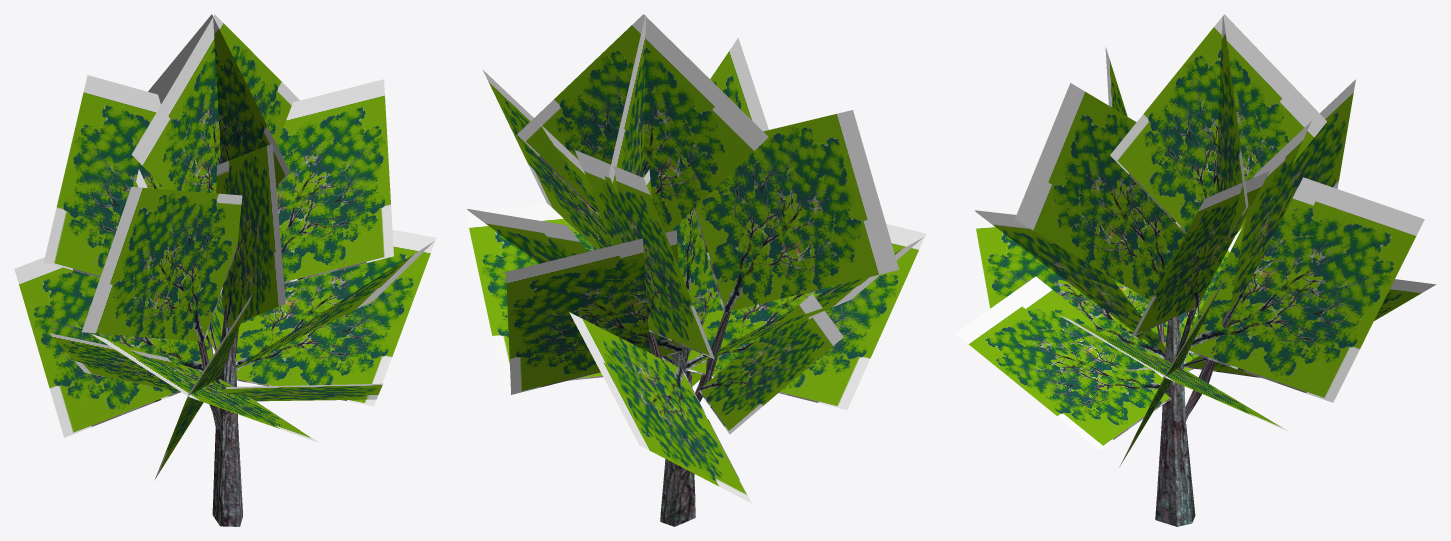
File: White_Oak_1.dae
3 views of the same model, side by side, from view 1: azimuth 30°, elevation 25°; view 2: azimuth 150°, elevation 25°; view 3: azimuth 270°, elevation 25° (orthographic). The views are drawn at different scales.
Parts seen in each view (by area): view 1: White_Oak_1; view 2: White_Oak_1; view 3: White_Oak_1.
Part boxes in pixels (bbox=[...]): White_Oak_1: bbox=[14, 14, 436, 526]; White_Oak_1: bbox=[465, 14, 925, 526]; White_Oak_1: bbox=[955, 14, 1436, 526].
Size of the model in its own units: 78.38 by 95.89 by 82.27.
